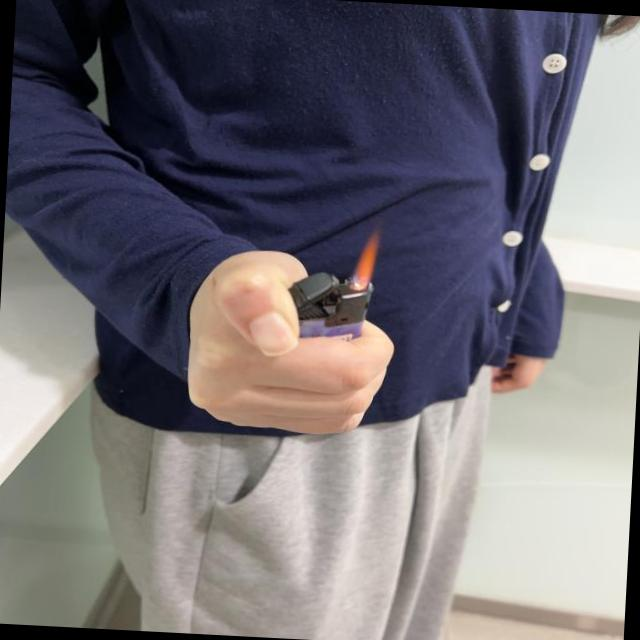Fire: (348, 224, 381, 294)
